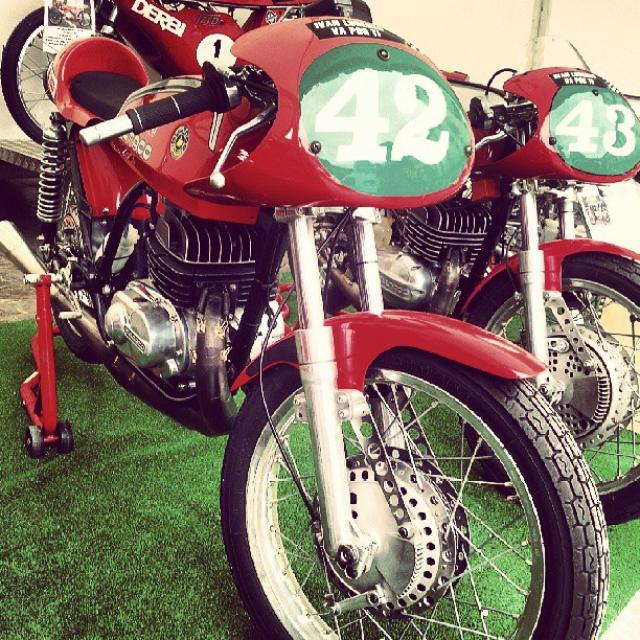motor: (3, 15, 618, 630), (383, 63, 640, 509)
